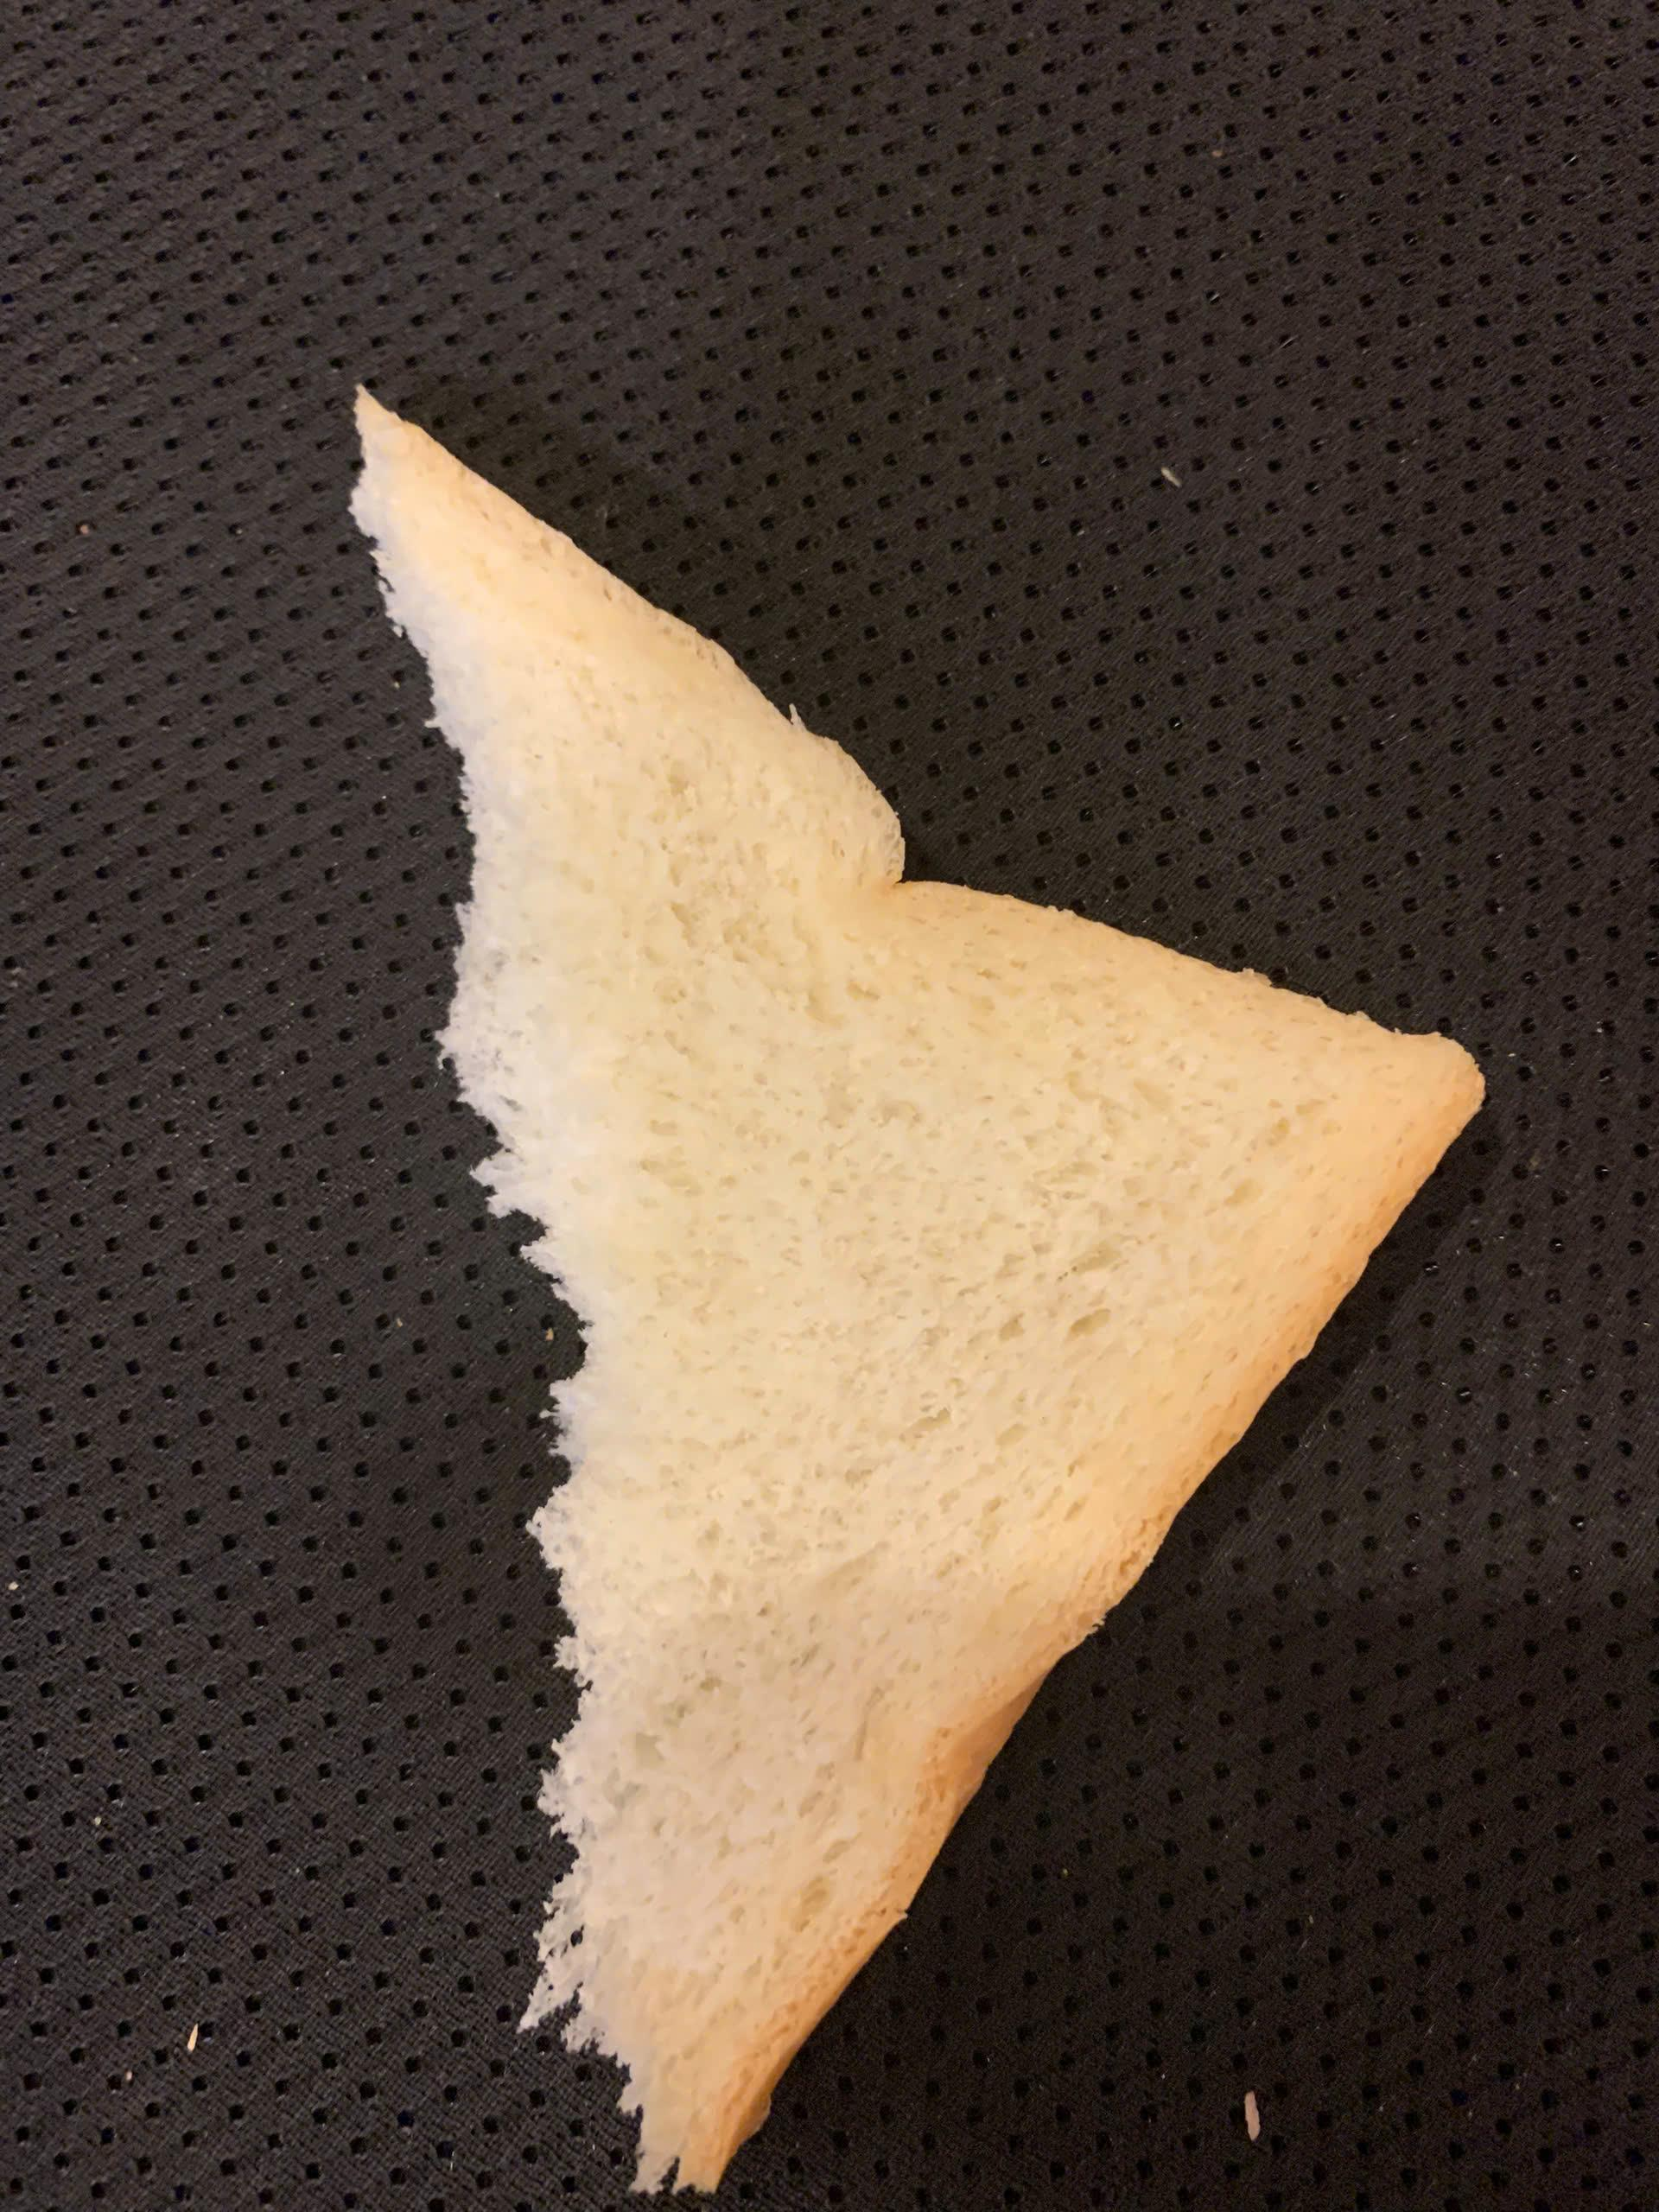Huu co: (345, 385, 1462, 2193)
